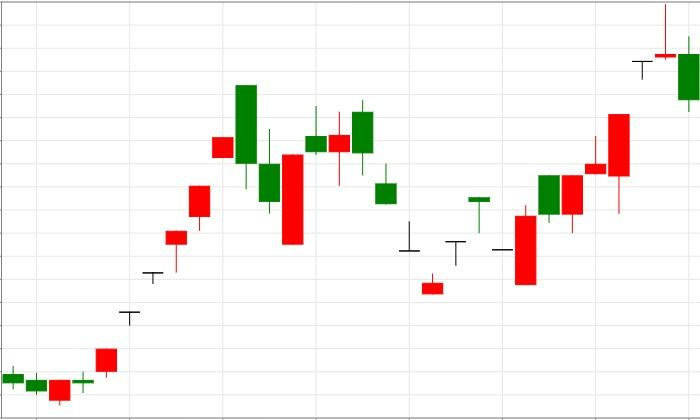bearish_engulfing_fall: (95, 85, 257, 377)
